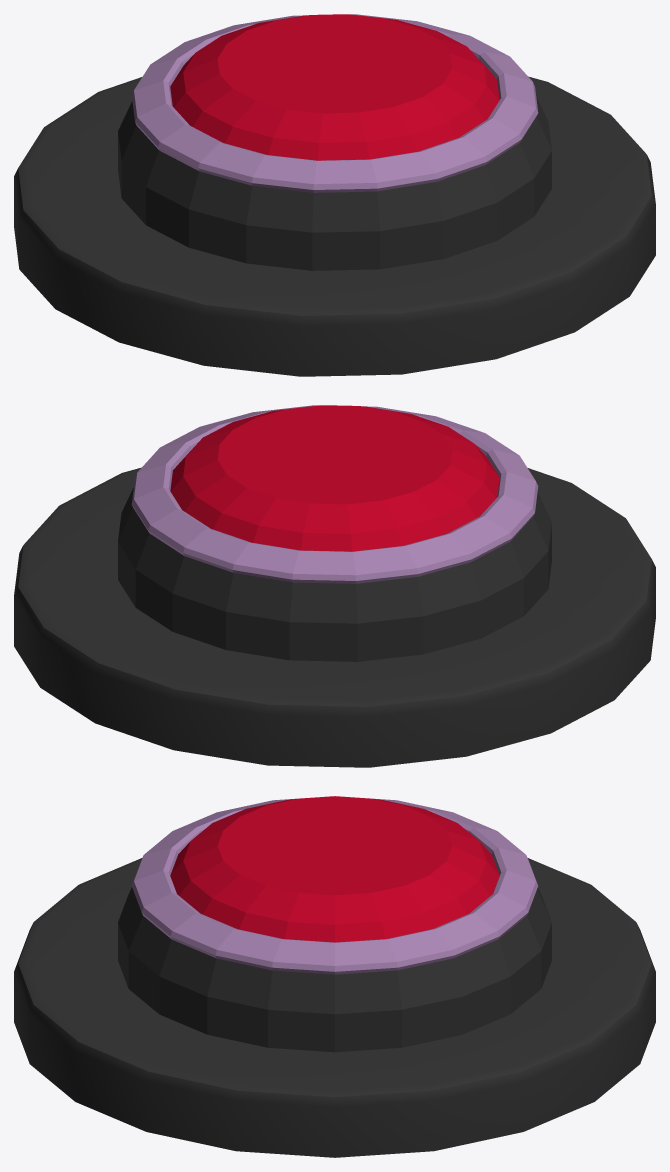
Rendered from button.fbx.
3 views of the same model, one above another, from view 1: azimuth 30°, elevation 25°; view 2: azimuth 150°, elevation 25°; view 3: azimuth 270°, elevation 25° (orthographic).
Parts seen in each view (by area): view 1: pCylinder2, pCylinder1; view 2: pCylinder2, pCylinder1; view 3: pCylinder2, pCylinder1.
Part boxes in pixels (x1,y1,x2,y2): pCylinder2: (118,14,551,270); pCylinder1: (14,76,655,376); pCylinder2: (118,405,551,661); pCylinder1: (14,467,655,767); pCylinder2: (118,796,551,1052); pCylinder1: (14,858,655,1157).
Bounding box in the file's own units: 7.77 × 2.36 × 7.77.
